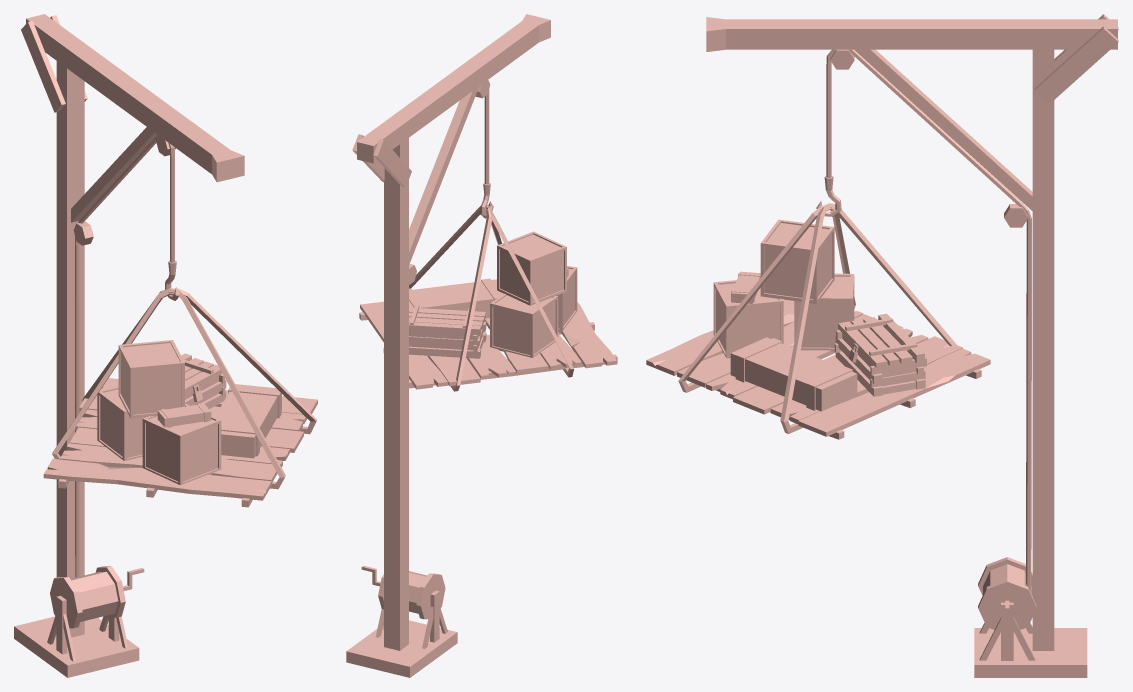
File: Mega_Asset_s_Pack_Cube_002.FBX
3 views of the same model, side by side, from view 1: azimuth 30°, elevation 25°; view 2: azimuth 150°, elevation 25°; view 3: azimuth 270°, elevation 25° (orthographic). The views are drawn at different scales.
Parts seen in each view (by area): view 1: Mega_Asset_s_Pack_Cube_002; view 2: Mega_Asset_s_Pack_Cube_002; view 3: Mega_Asset_s_Pack_Cube_002.
Boxes of the visible parts, x1,y1,x2,y2 form: Mega_Asset_s_Pack_Cube_002: (14,14,317,677); Mega_Asset_s_Pack_Cube_002: (346,14,617,677); Mega_Asset_s_Pack_Cube_002: (646,14,1118,677).
Size of what is drawn, in the model's own units: 751 by 1036 by 1544.
